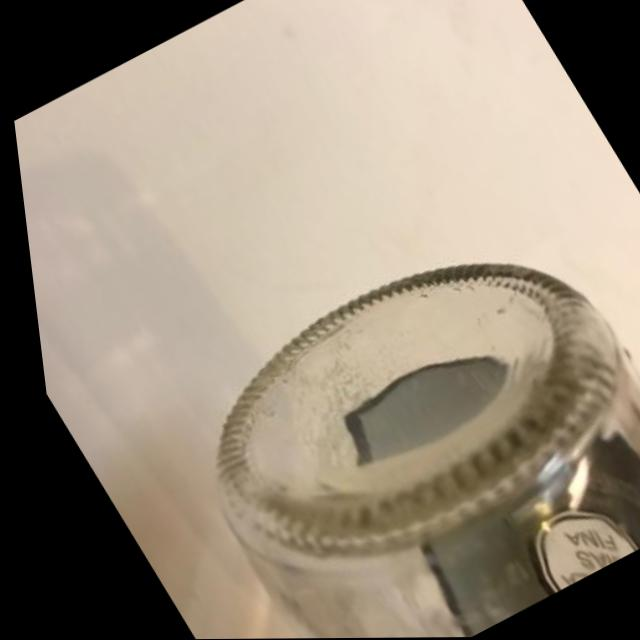glass: (48, 115, 640, 640)
